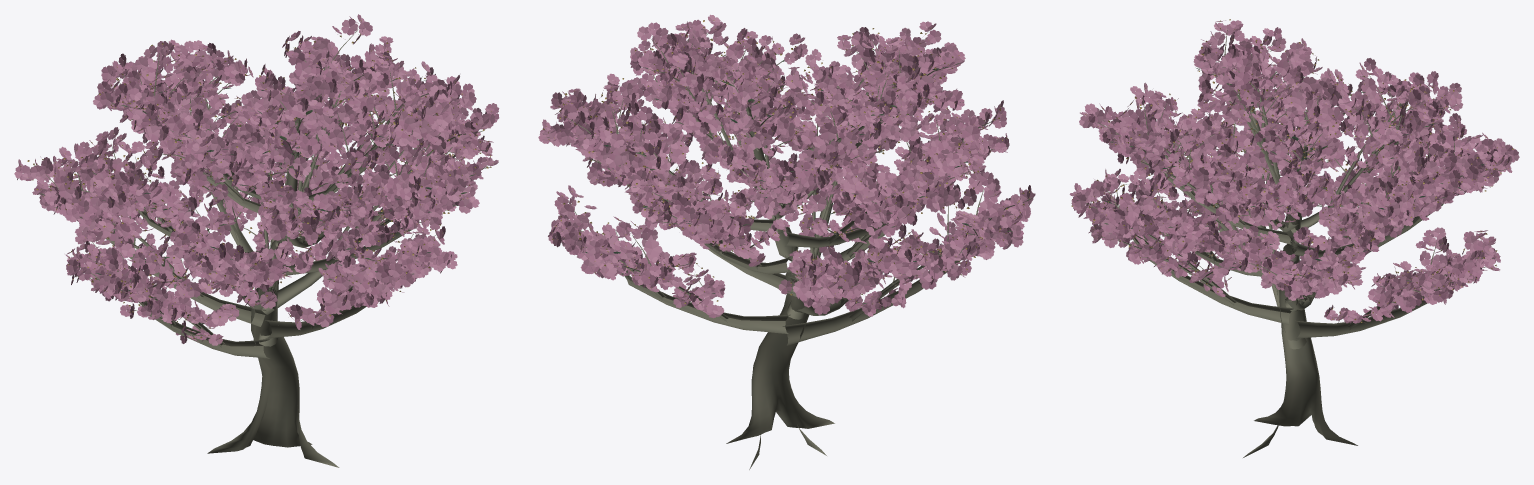
3 renders of one model, left to right at view 1: azimuth 30°, elevation 25°; view 2: azimuth 150°, elevation 25°; view 3: azimuth 270°, elevation 25°, orthographic. The views are drawn at different scales.
Visible parts, largest first — view 1: leaves, branches; view 2: leaves, branches; view 3: leaves, branches.
Part boxes in pixels (<box>): leaves: <box>14,14,499,345</box>; branches: <box>46,30,486,467</box>; leaves: <box>538,14,1035,318</box>; branches: <box>547,30,1024,469</box>; leaves: <box>1069,19,1519,323</box>; branches: <box>1086,28,1502,457</box>.
Size of the model in its own units: 9.5 by 8.21 by 9.03.
